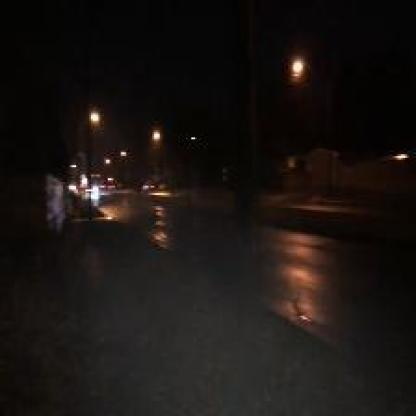other: (56, 165, 121, 193), (282, 52, 309, 91), (96, 145, 125, 167), (82, 104, 105, 128), (140, 119, 160, 144)
